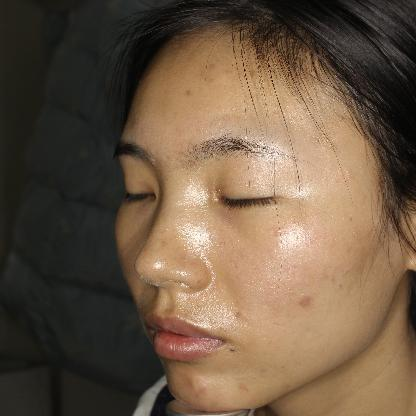Blackheads: (225, 343, 243, 357)
acne scar: (294, 287, 317, 316)
